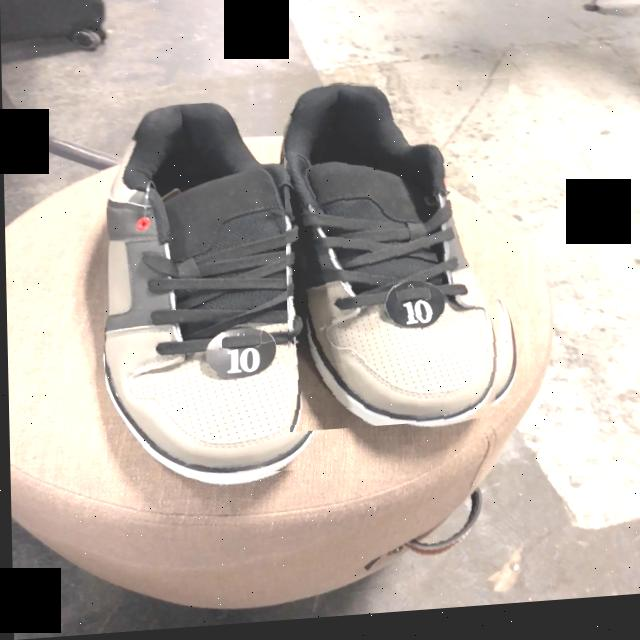shoe: (103, 108, 317, 479), (283, 90, 500, 431)
